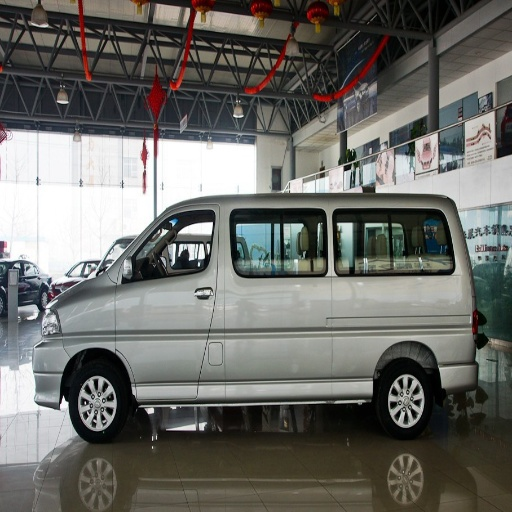trunk: (193, 276, 471, 391)
